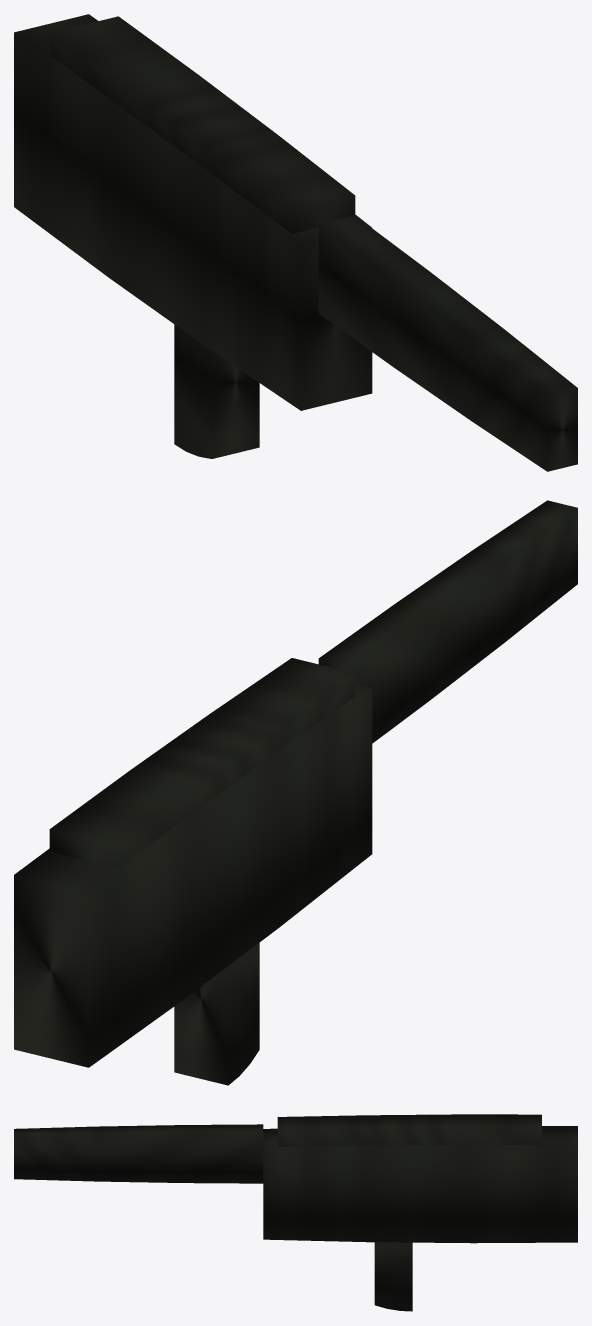
Rendered from wpn_m249_saw.glb.
The picture shows the model from 3 angles, top to bottom: view 1: azimuth 30°, elevation 25°; view 2: azimuth 150°, elevation 25°; view 3: azimuth 270°, elevation 25°; orthographic projection. The views are drawn at different scales.
Visible parts, largest first — view 1: SubMesh_0_Receiver, SubMesh_3_BarrelSight, SubMesh_1_Action, SubMesh_2_Magazine; view 2: SubMesh_0_Receiver, SubMesh_3_BarrelSight, SubMesh_1_Action, SubMesh_2_Magazine; view 3: SubMesh_0_Receiver, SubMesh_3_BarrelSight, SubMesh_1_Action, SubMesh_2_Magazine.
Part boxes in pixels (x1,y1,x2,y2): SubMesh_0_Receiver: (14,14,372,410); SubMesh_3_BarrelSight: (318,215,577,471); SubMesh_1_Action: (49,16,355,233); SubMesh_2_Magazine: (174,324,259,458); SubMesh_0_Receiver: (14,684,372,1067); SubMesh_3_BarrelSight: (318,500,577,743); SubMesh_1_Action: (49,658,355,868); SubMesh_2_Magazine: (174,943,259,1085); SubMesh_0_Receiver: (263,1126,577,1243); SubMesh_3_BarrelSight: (14,1124,263,1183); SubMesh_1_Action: (277,1114,541,1146); SubMesh_2_Magazine: (374,1242,412,1311).
Size of the model in its own units: 0.0889 by 0.3673 by 1.04.
1 material, 1 textured.
